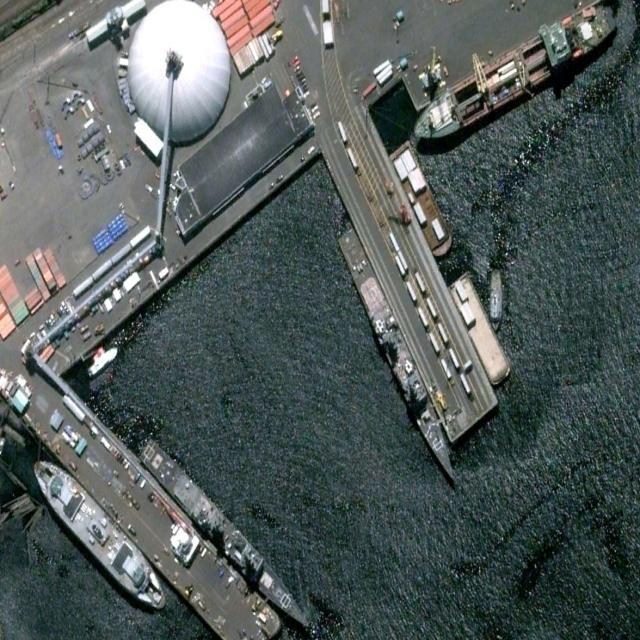Cargo: (408, 1, 621, 154)
Cruiser: (136, 434, 317, 637), (333, 225, 465, 489)
Other Ship: (87, 342, 121, 382)
Other Warship: (490, 270, 502, 332)
RoRo: (26, 446, 174, 623)
